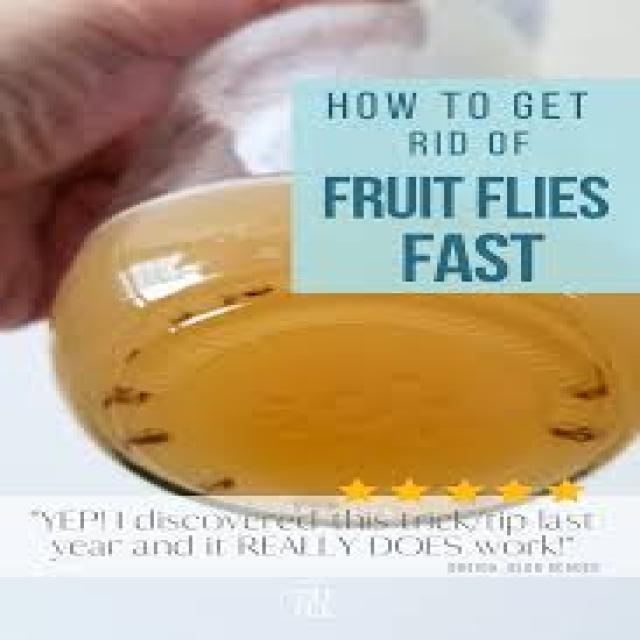fruit fly: (112, 414, 182, 452), (560, 375, 616, 405), (539, 416, 598, 444), (231, 274, 276, 302), (161, 300, 199, 331), (192, 470, 242, 491), (115, 338, 140, 366), (94, 386, 116, 410), (129, 384, 154, 405)
